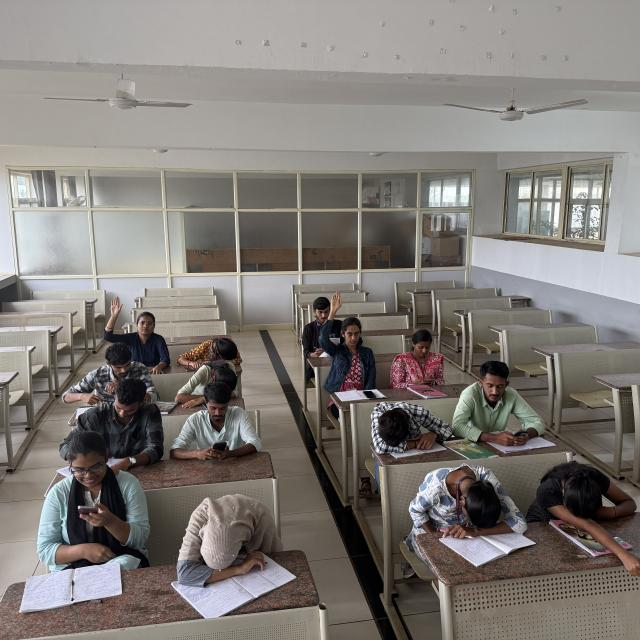Hand Rising: (98, 294, 175, 365), (321, 288, 375, 376)
Sleeping: (176, 488, 273, 580), (406, 465, 528, 531), (532, 457, 638, 527), (370, 401, 450, 455), (176, 350, 248, 407), (181, 327, 244, 370)
Using Phone: (51, 430, 148, 544), (456, 359, 546, 448), (181, 383, 255, 460), (395, 332, 449, 389)
